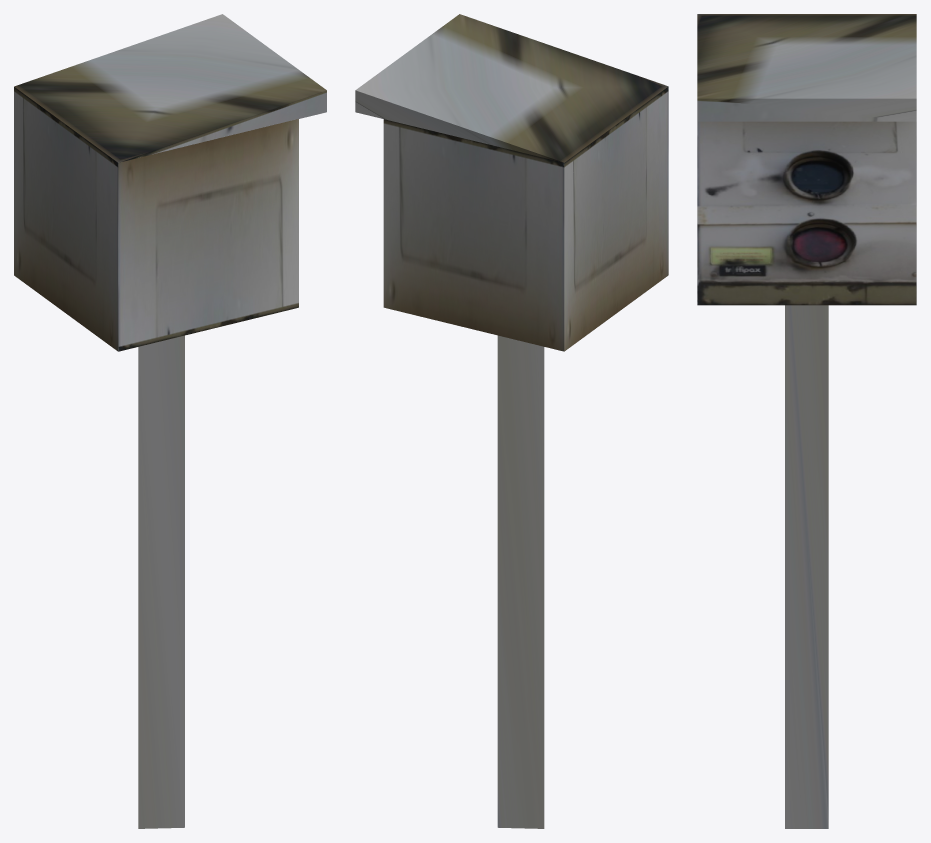
File: radar.obj
3 views of the same model, side by side, from view 1: azimuth 30°, elevation 25°; view 2: azimuth 150°, elevation 25°; view 3: azimuth 270°, elevation 25° (orthographic). The views are drawn at different scales.
Parts seen in each view (by area): view 1: Cube; view 2: Cube; view 3: Cube.
Part boxes in pixels (x1,y1,x2,y2): Cube: (14, 14, 326, 828); Cube: (355, 14, 668, 828); Cube: (697, 14, 916, 828).
Size of the model in its own units: 2.31 by 7.87 by 2.
